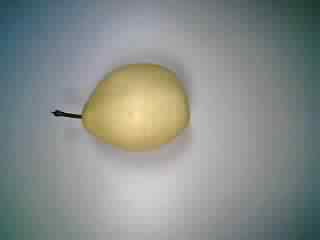pear: (44, 50, 199, 163)
